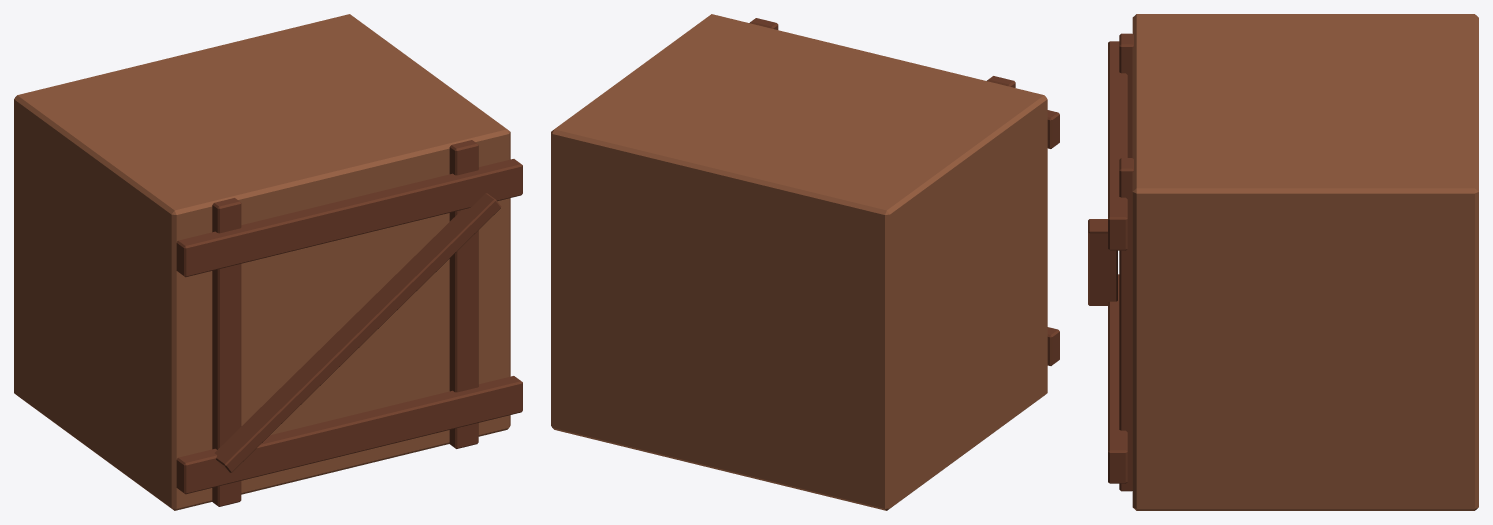
The model's file is grain_crates_01.glb.
3 renders of one model, left to right at view 1: azimuth 30°, elevation 25°; view 2: azimuth 150°, elevation 25°; view 3: azimuth 270°, elevation 25°, orthographic. The views are drawn at different scales.
Parts seen in each view (by area): view 1: Box, Cross_001, Cross, Diagonal, Strap, Strap_001; view 2: Box; view 3: Box, Strap_001, Cross_001, Cross, Diagonal, Strap.
Boxes of the visible parts, x1,y1,x2,y2 form: Box: (14,14,510,510); Cross_001: (176,159,522,277); Cross: (176,376,522,494); Diagonal: (214,193,501,472); Strap: (212,198,241,506); Strap_001: (449,140,478,448); Box: (551,14,1047,510); Box: (1132,14,1478,510); Strap_001: (1119,158,1133,491); Cross_001: (1108,41,1127,250); Cross: (1108,274,1127,483); Diagonal: (1088,219,1117,305); Strap: (1119,33,1133,157).
Size of the model in its own units: 0.85 by 0.72 by 0.79.
